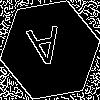A: (25, 25, 65, 77)
